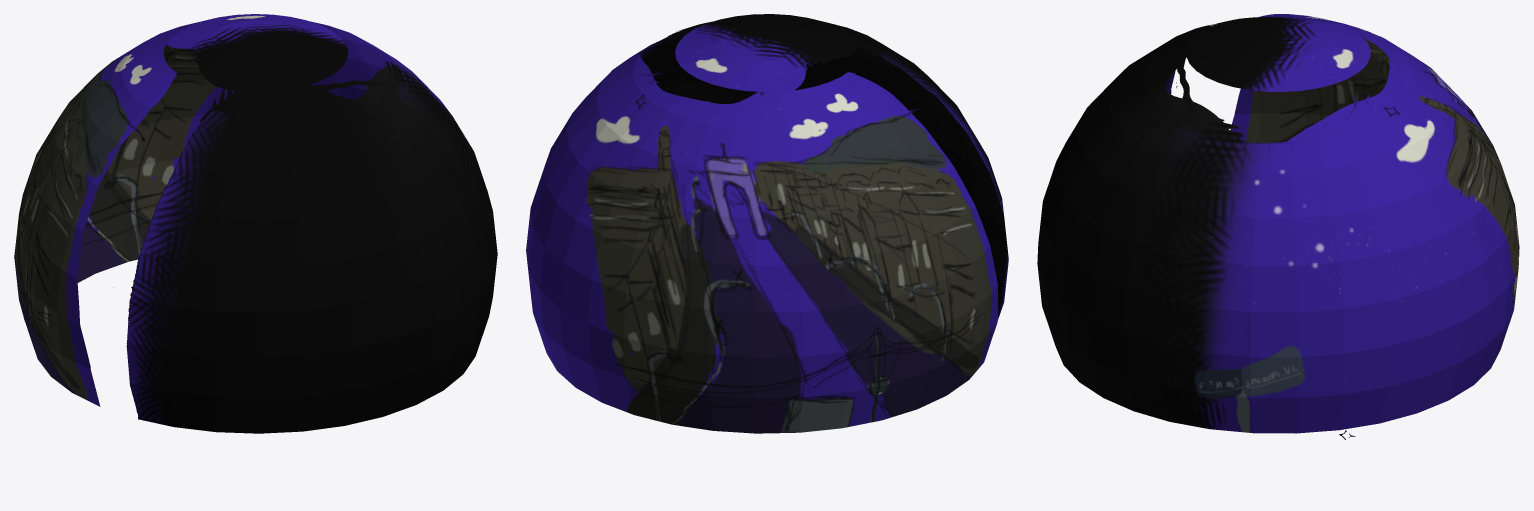
File: domo.fbx
The picture shows the model from 3 angles, left to right: view 1: azimuth 30°, elevation 25°; view 2: azimuth 150°, elevation 25°; view 3: azimuth 270°, elevation 25°; orthographic projection.
Visible parts, largest first — view 1: domo; view 2: domo; view 3: domo.
Part boxes in pixels (x1,y1,x2,y2): domo: (14,14,497,433); domo: (526,14,1008,433); domo: (1037,14,1519,439).
Bounding box in the file's own units: 2990 × 3000 × 2990.
Materials: 1 (1 with a texture image).
